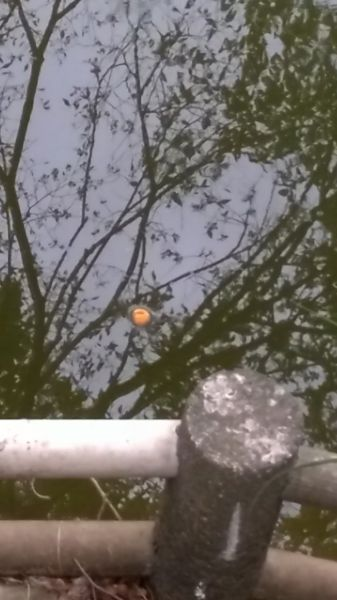eggs: (127, 303, 154, 330)
